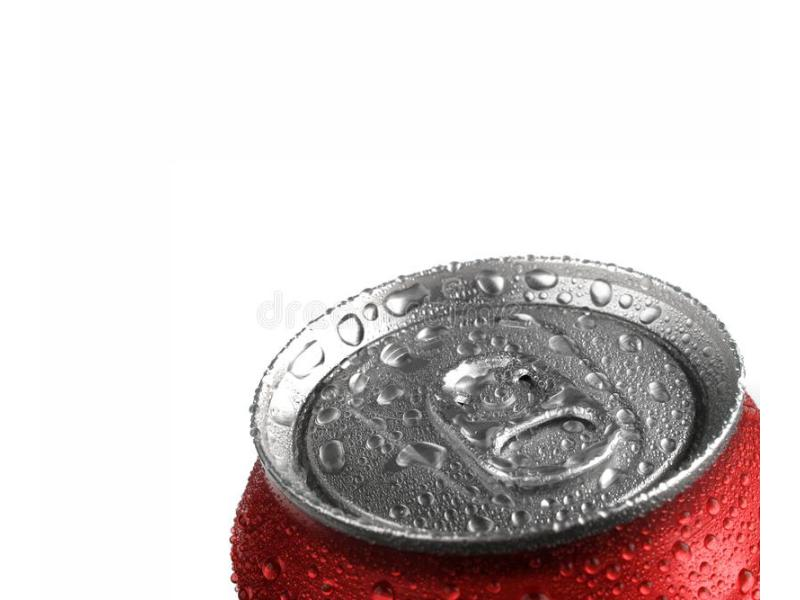can: (218, 232, 780, 600)
